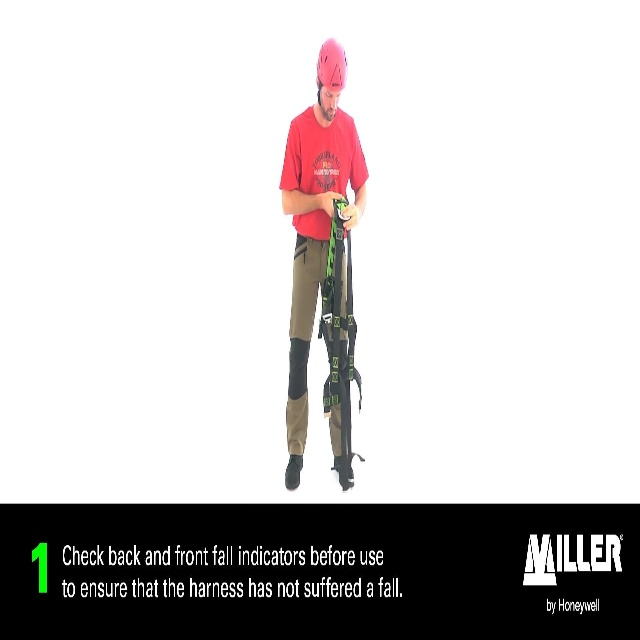Arnes_seguridad: (316, 181, 367, 493)
